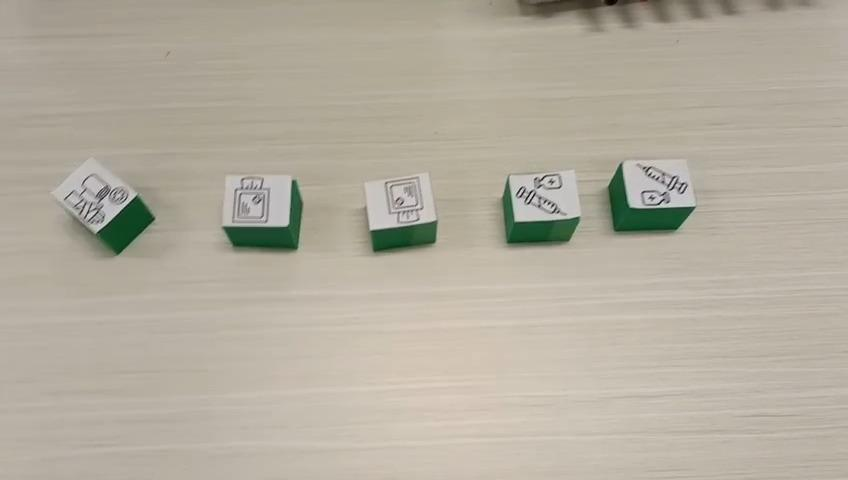Bandages: (47, 156, 155, 256)
Gauze: (363, 171, 439, 252), (222, 175, 303, 250)
antiseptic cream: (607, 157, 698, 232), (501, 169, 581, 244)
